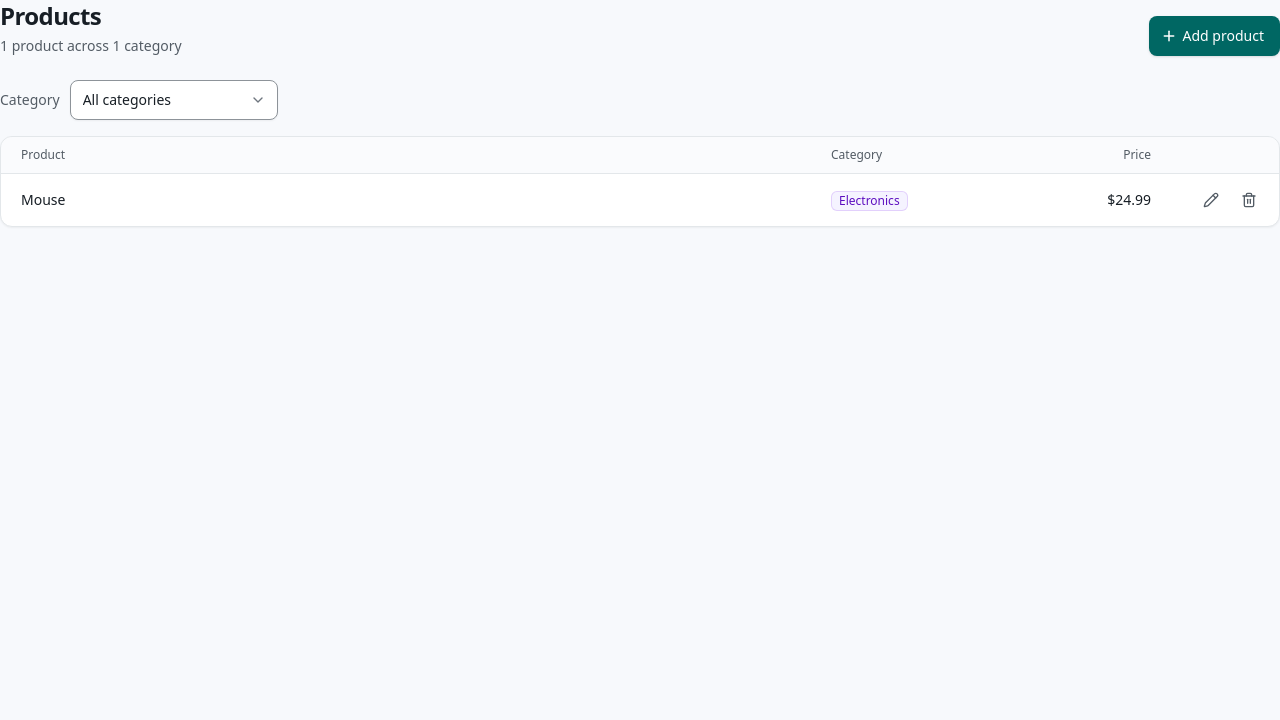
delete product › keeps the dialog open and shows the error when the delete fails
Step 1. Click the button named "Delete Mouse" → (1249, 200), box [1231,182,1267,218]
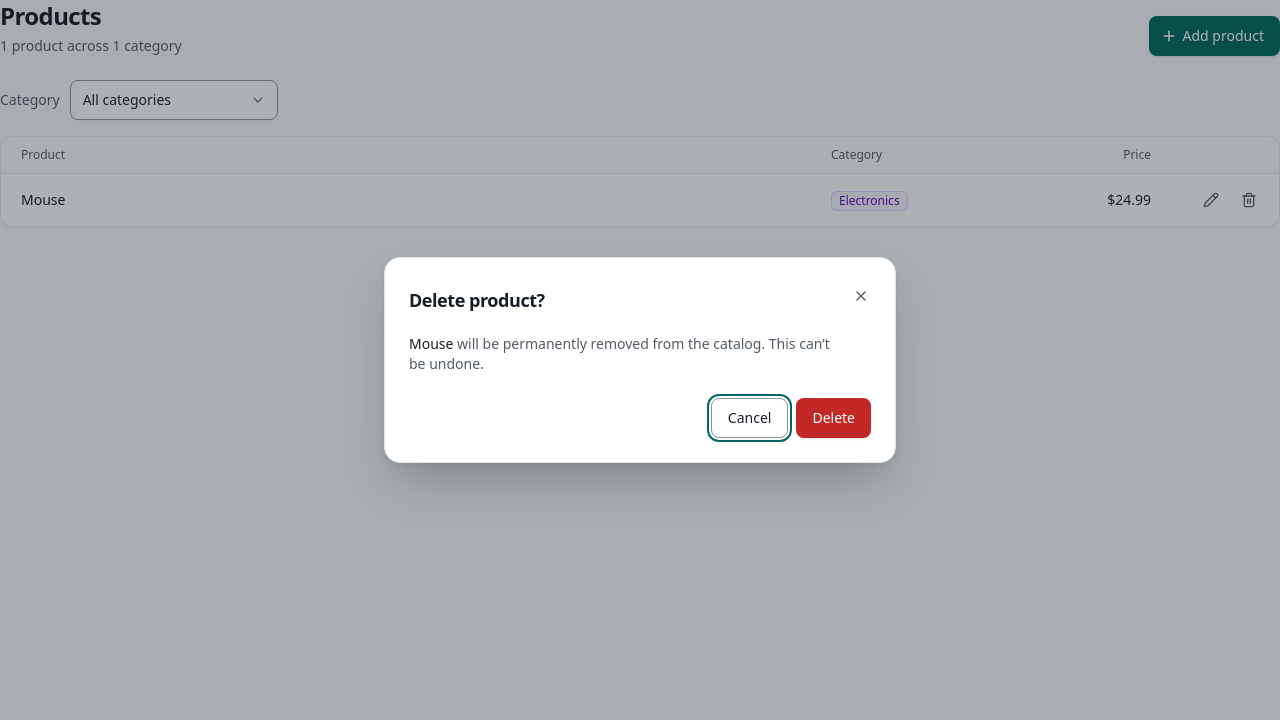
Step 2. Click the button "Delete" → (834, 418), box [796,398,871,438]
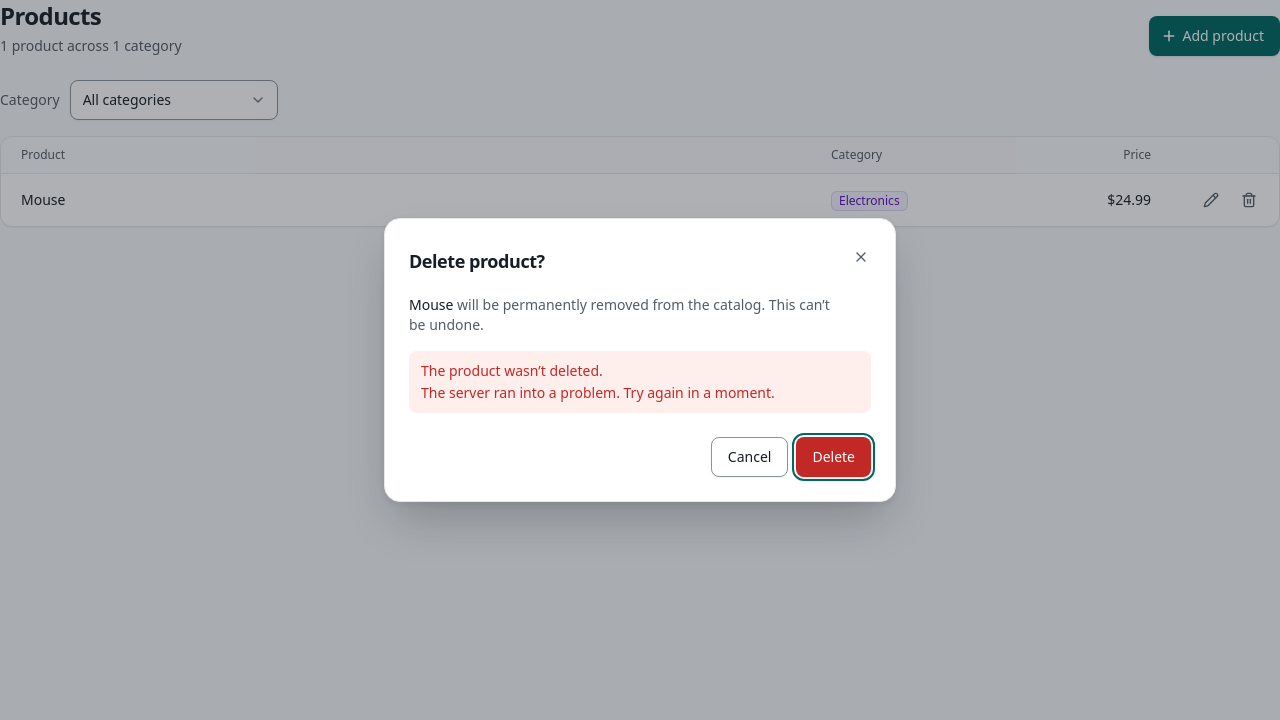
Expected: the dialog is shown, [384,218,896,502]
Expected: the message shows "The product wasn’t deleted.", [421,361,603,380]
Expected: the message shows "The server ran into a problem. Try again in a moment.", [421,383,775,402]
